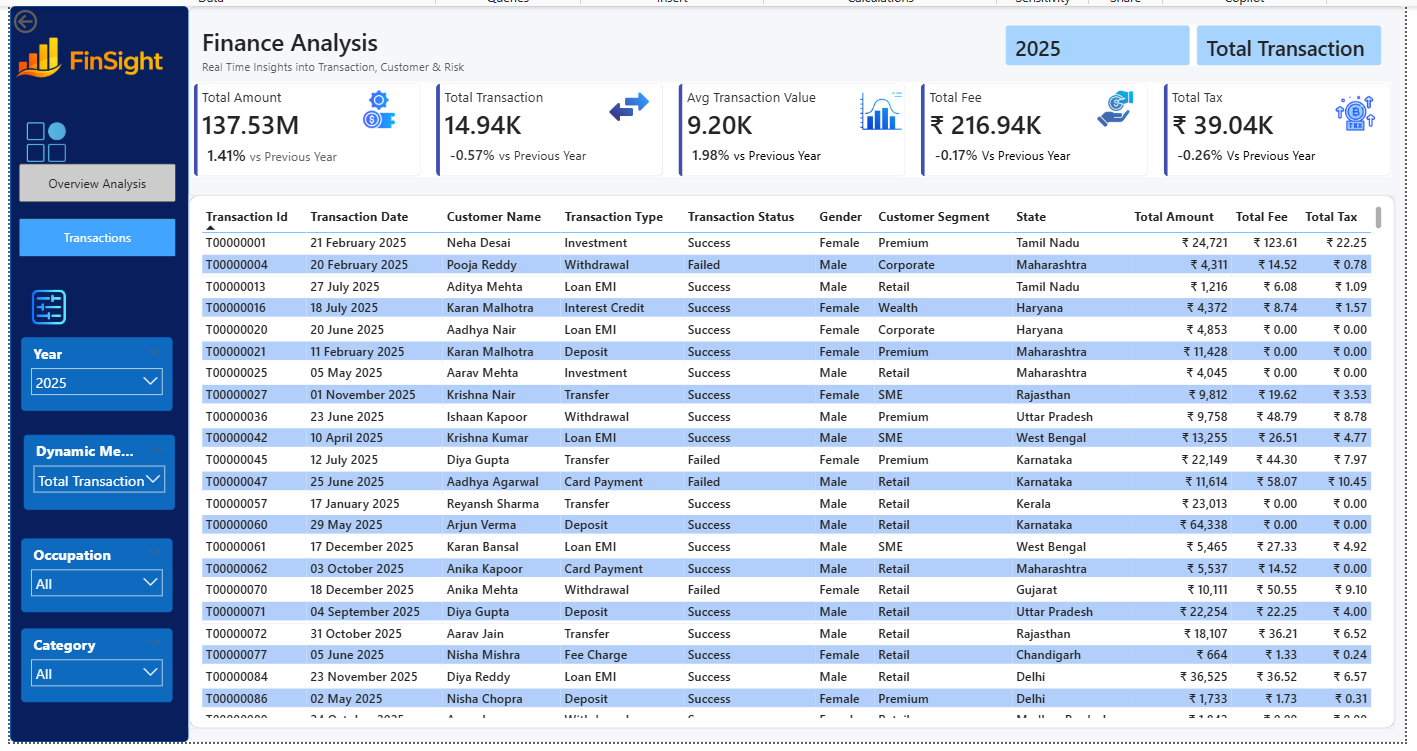

Layout of this report page (visuals, bound fields, positions):
{"tool":"powerbi","page":{"name":"Transactions","canvas":[1800,950],"ordinal":1},"visuals":[{"type":"shape","box":[0,0,230.8,950.2],"z":0},{"type":"shape","box":[230.8,0,1569.6,950.2],"z":1000},{"type":"image","box":[0,21.6,209.8,92.2],"z":2000},{"type":"cardVisual","fields":{"Data":["finance_transactions.Dashboard Title"]},"box":[230.8,0,385.2,113.7],"z":3000},{"type":"cardVisual","fields":{"Data":["finance_transactions.Total Amount","finance_transactions.Total Transaction","finance_transactions.Avg Transaction Value","finance_transactions.Total Fee","finance_transactions.Total Tax"]},"box":[230.8,93.3,1557.7,132.4],"z":4000},{"type":"image","box":[451.3,107.9,49.1,50.7],"z":5000},{"type":"image","box":[768.5,103,62.1,54],"z":6000},{"type":"image","box":[1396.4,107.9,62.1,49.1],"z":7000},{"type":"image","box":[1090.7,107.9,67,55.6],"z":8000},{"type":"image","box":[1697.3,107.9,78.5,60.5],"z":9000},{"type":"cardVisual","fields":{"Data":["finance_transactions.Selected Year","finance_transactions.Selecetd Dynamic Measure"]},"box":[1278.7,19.6,497.1,63.8],"z":10000},{"type":"shape","box":[230.8,244.3,1557.7,688.9],"z":11000},{"type":"tableEx","fields":{"Values":["finance_transactions.transaction_id","finance_transactions.transaction_date","customers.customer_name","finance_transactions.transaction_type","finance_transactions.transaction_status","customers.gender","customers.customer_segment","customers.state","finance_transactions.Total Amount","finance_transactions.Total Fee","finance_transactions.Total Tax"]},"box":[242.6,252.8,1533.9,670.3],"z":12000},{"type":"actionButton","box":[0,0,100,40],"z":13000},{"type":"slicer","fields":{"Values":["Calender Table.Year"]},"box":[15.3,427.6,195.1,95],"z":14000},{"type":"slicer","fields":{"Values":["Dynamic Metric.Dynamic Metric"]},"box":[17,553.2,195.1,96.7],"z":15000},{"type":"slicer","fields":{"Values":["customers.occupation"]},"box":[15.3,687.2,195.1,95],"z":16000},{"type":"slicer","fields":{"Values":["finance_transactions.merchant_category"]},"box":[15.3,804.3,195.1,95],"z":17000},{"type":"pageNavigator","box":[11.9,203.6,203.6,120.5],"z":18000},{"type":"image","box":[15.3,363.1,71.3,50.9],"z":19000},{"type":"image","box":[11.9,149.3,71.3,50.9],"z":20000}]}

Visuals, with their boxes on the page's 1800x950 design canvas (x1, y1, x2, y2). These are canvas units, not pixel positions in the 1417x751 screenshot, which may show the page scaled, cropped or inside an application window:
shape: x1=0 y1=0 x2=231 y2=950
shape: x1=231 y1=0 x2=1800 y2=950
image: x1=0 y1=22 x2=210 y2=114
cardVisual - finance_transactions.Dashboard Title: x1=231 y1=0 x2=616 y2=114
cardVisual - finance_transactions.Total Amount x finance_transactions.Total Transaction: x1=231 y1=93 x2=1788 y2=226
image: x1=451 y1=108 x2=500 y2=159
image: x1=768 y1=103 x2=831 y2=157
image: x1=1396 y1=108 x2=1458 y2=157
image: x1=1091 y1=108 x2=1158 y2=164
image: x1=1697 y1=108 x2=1776 y2=168
cardVisual - finance_transactions.Selected Year x finance_transactions.Selecetd Dynamic Measure: x1=1279 y1=20 x2=1776 y2=83
shape: x1=231 y1=244 x2=1788 y2=933
tableEx - finance_transactions.transaction_id x finance_transactions.transaction_date: x1=243 y1=253 x2=1776 y2=923
actionButton: x1=0 y1=0 x2=100 y2=40
slicer - Calender Table.Year: x1=15 y1=428 x2=210 y2=523
slicer - Dynamic Metric.Dynamic Metric: x1=17 y1=553 x2=212 y2=650
slicer - customers.occupation: x1=15 y1=687 x2=210 y2=782
slicer - finance_transactions.merchant_category: x1=15 y1=804 x2=210 y2=899
pageNavigator: x1=12 y1=204 x2=216 y2=324
image: x1=15 y1=363 x2=87 y2=414
image: x1=12 y1=149 x2=83 y2=200
